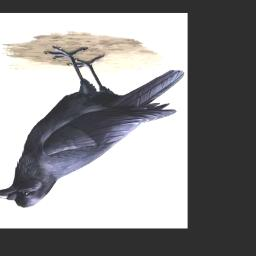Crow: (0, 43, 185, 209)
